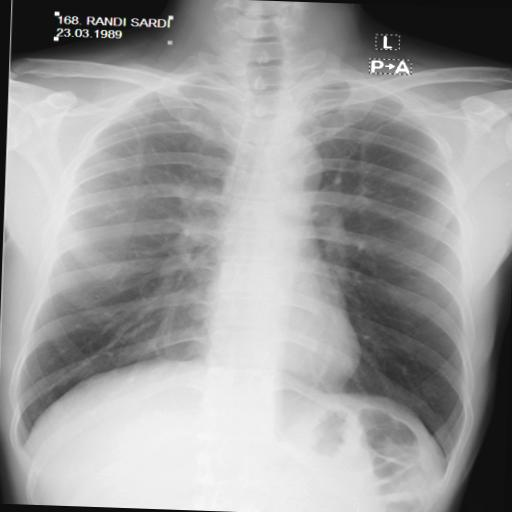normal: (5, 47, 491, 482)
